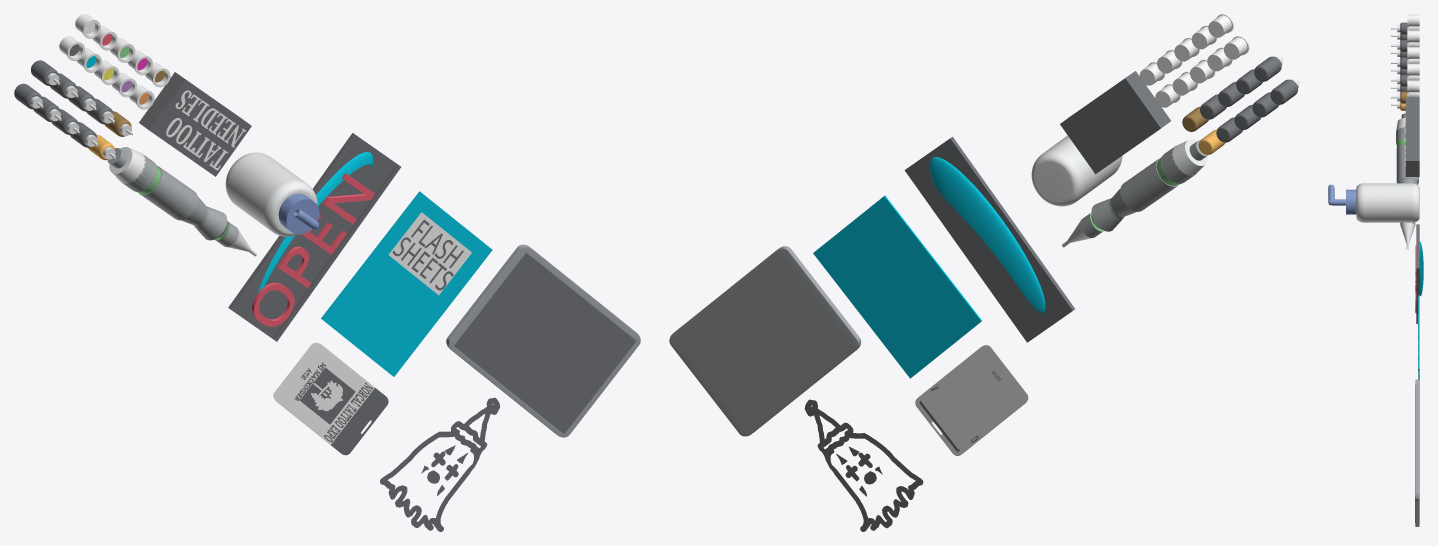
The model's file is mjm-sprue-_tattoo_artist.glb.
3 views of the same model, side by side, from view 1: azimuth 30°, elevation 25°; view 2: azimuth 150°, elevation 25°; view 3: azimuth 270°, elevation 25° (orthographic). The views are drawn at different scales.
Visible parts, largest first — view 1: Object_9, Object_11, Object_7, Object_14, Object_3, Object_5, Object_10; view 2: Object_14, Object_9, Object_11, Object_7, Object_3; view 3: Object_3, Object_9, Object_14, Object_7, Object_10, Object_11, Object_5.
Boxes of the visible parts, x1,y1,x2,y2 form: Object_9: [14, 44, 636, 531]; Object_11: [86, 56, 492, 376]; Object_7: [36, 14, 471, 448]; Object_14: [107, 148, 640, 437]; Object_3: [30, 73, 317, 256]; Object_5: [102, 34, 374, 326]; Object_10: [278, 193, 319, 234]; Object_14: [669, 140, 1207, 436]; Object_9: [804, 56, 1297, 531]; Object_11: [813, 157, 1045, 378]; Object_7: [915, 14, 1299, 455]; Object_3: [1031, 56, 1298, 247]; Object_3: [1356, 24, 1419, 249]; Object_9: [1400, 22, 1419, 522]; Object_14: [1396, 113, 1419, 526]; Object_7: [1391, 14, 1419, 173]; Object_10: [1328, 184, 1356, 214]; Object_11: [1418, 241, 1423, 380]; Object_5: [1415, 245, 1416, 313].
Bounding box in the file's own units: 145 × 135 × 29.02.
